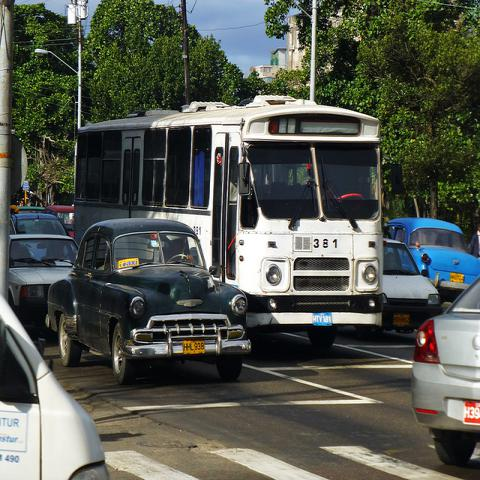bus: (76, 96, 384, 348)
car: (45, 214, 251, 385), (0, 290, 113, 479), (408, 272, 479, 464), (382, 217, 479, 303), (9, 232, 79, 324), (381, 238, 442, 332), (11, 212, 71, 238), (43, 205, 74, 239)
